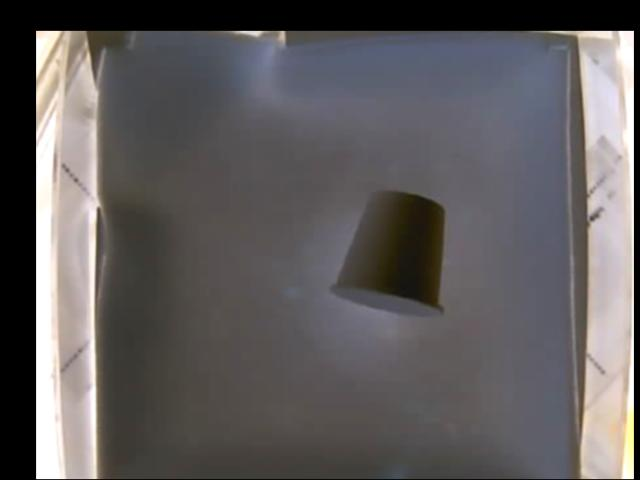Cup: (331, 191, 445, 319)
